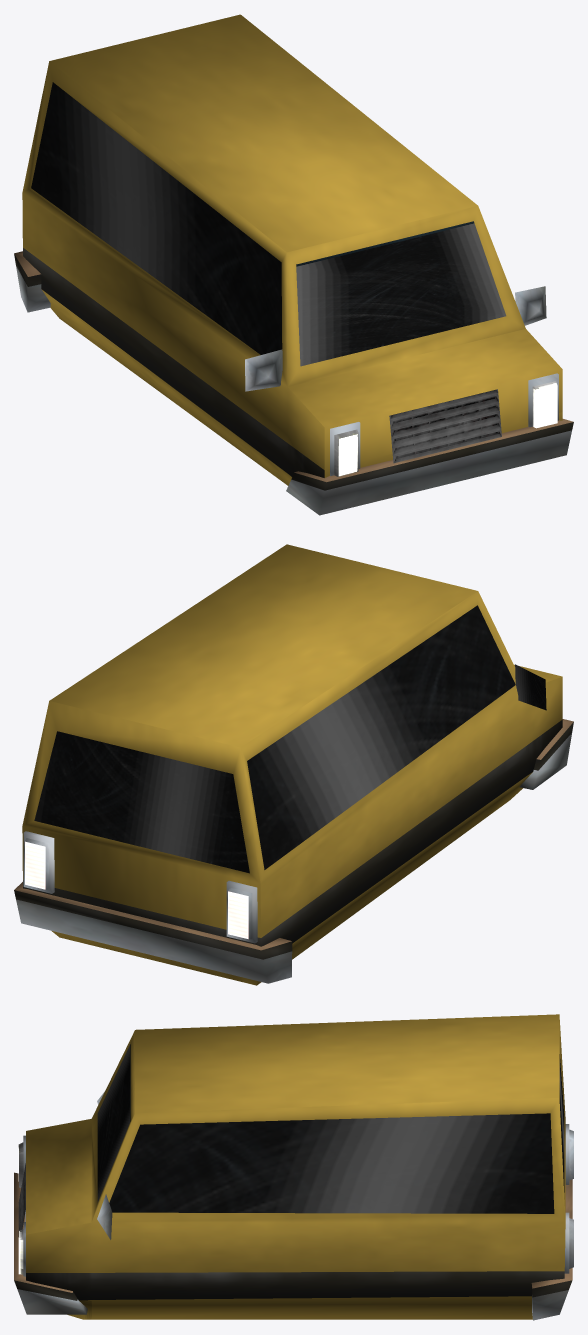
Rendered from EnemyCar_2.fbx.
3 views of the same model, one above another, from view 1: azimuth 30°, elevation 25°; view 2: azimuth 150°, elevation 25°; view 3: azimuth 270°, elevation 25° (orthographic). The views are drawn at different scales.
Parts seen in each view (by area): view 1: StationWagon.001; view 2: StationWagon.001; view 3: StationWagon.001.
Part boxes in pixels (x1=…): StationWagon.001: x1=14, y1=14, x2=573, y2=515; StationWagon.001: x1=14, y1=544, x2=573, y2=985; StationWagon.001: x1=14, y1=1014, x2=573, y2=1320.
Bounding box in the file's own units: 75.86 × 59.47 × 137.
